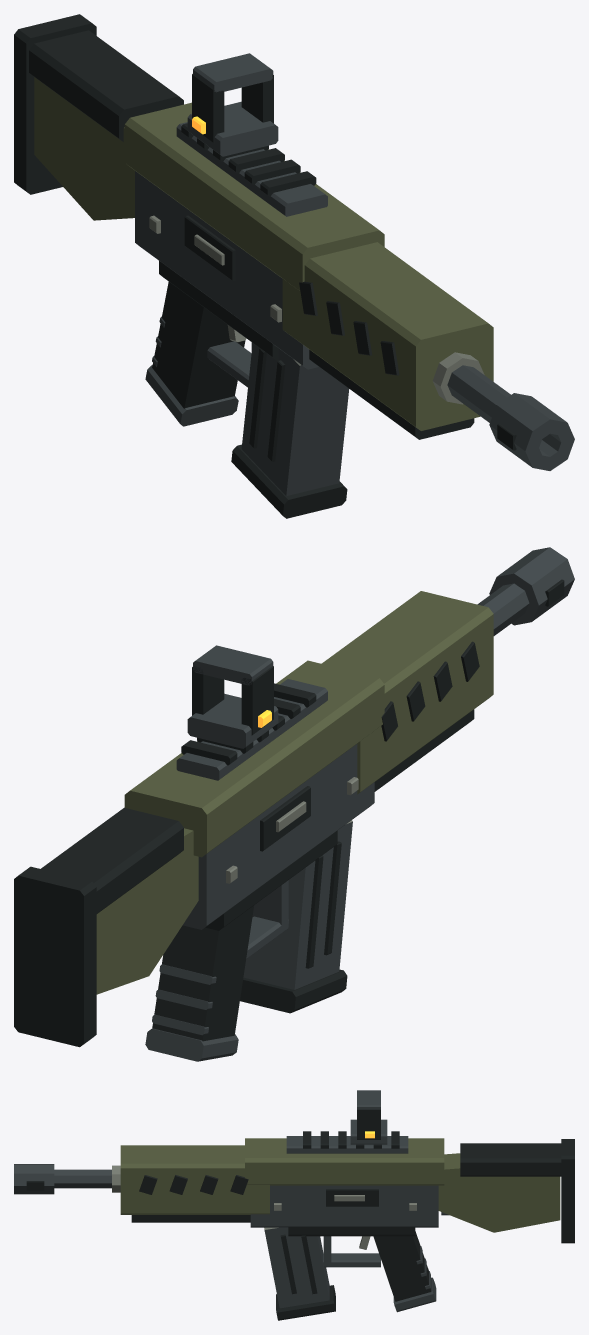
Rendered from Rifle.gltf.
3 views of the same model, one above another, from view 1: azimuth 30°, elevation 25°; view 2: azimuth 150°, elevation 25°; view 3: azimuth 270°, elevation 25° (orthographic). The views are drawn at different scales.
Visible parts, largest first — view 1: Rifle; view 2: Rifle; view 3: Rifle.
Part boxes in pixels (x1=…): Rifle: x1=14, y1=14, x2=574, y2=518; Rifle: x1=14, y1=547, x2=574, y2=1061; Rifle: x1=14, y1=1090, x2=574, y2=1320.
Size of the model in its own units: 0.099 by 0.43 by 1.01.
